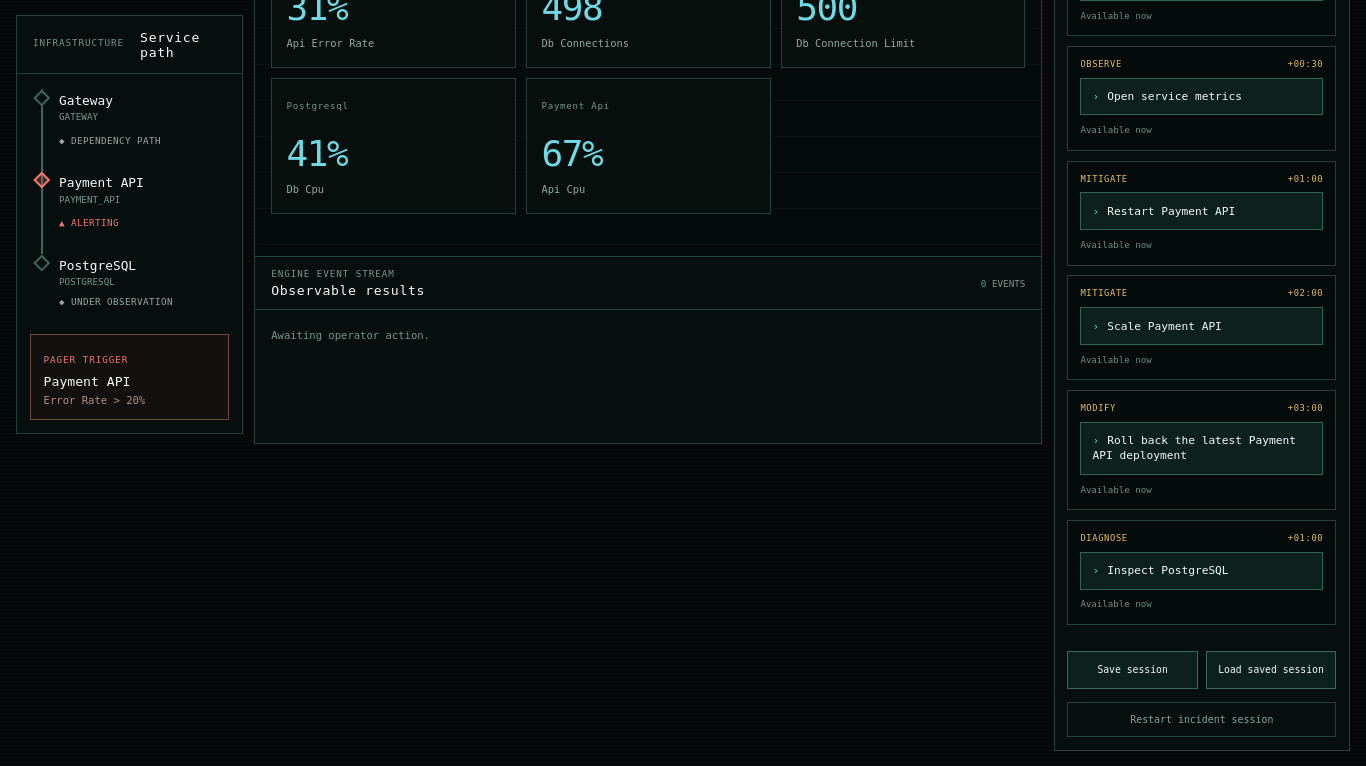
Scenario: INC-001 operations desktop › reveals database findings and the requirement-gated root-cause action
The width and height of the screenshot is (1366, 766).
(page scrolled)
Click the button "Inspect PostgreSQL". click: (1202, 571)
box: [1080, 552, 1323, 590]
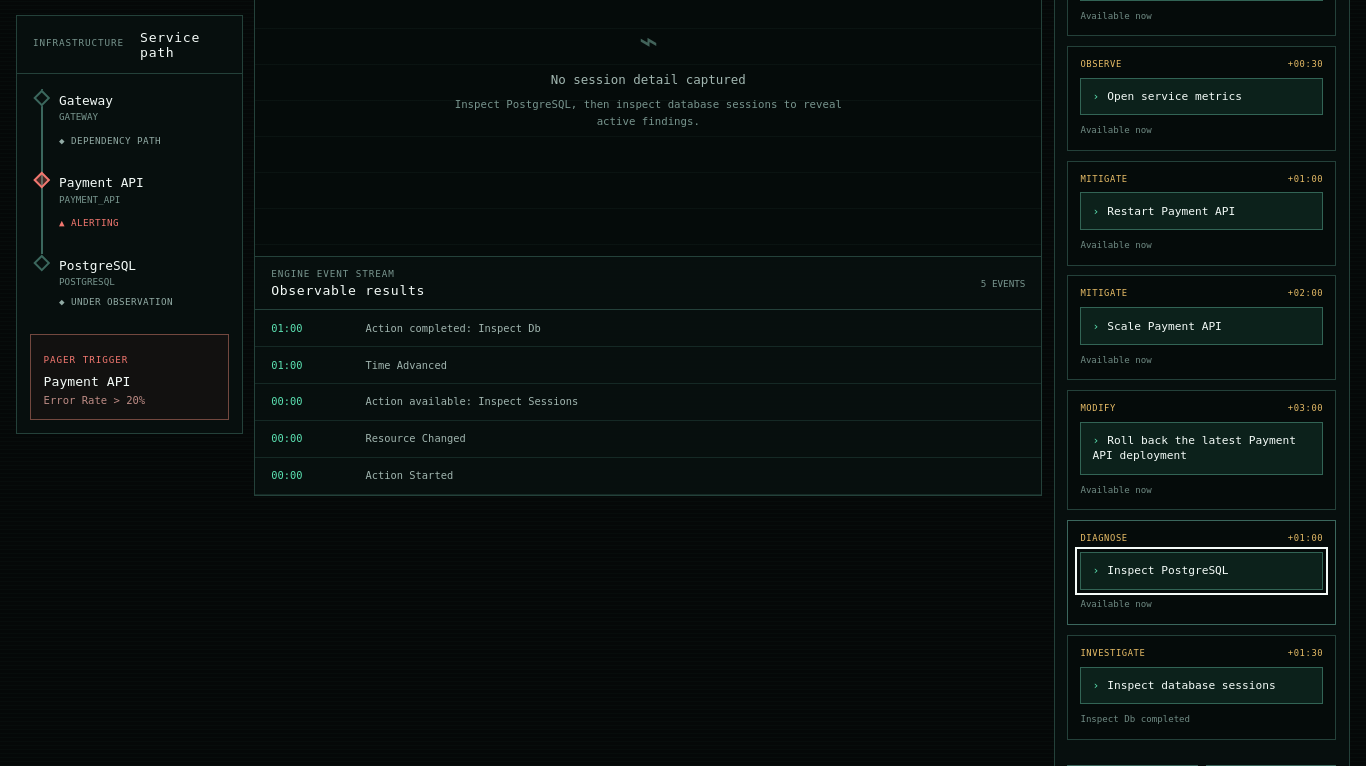
Check: the text "No session detail captured" is shown, box [551, 72, 746, 87]
Check: the button "Inspect database sessions" is enabled
Click the button "Inspect database sessions". click: (1202, 685)
box: [1080, 666, 1323, 704]
(page scrolled)
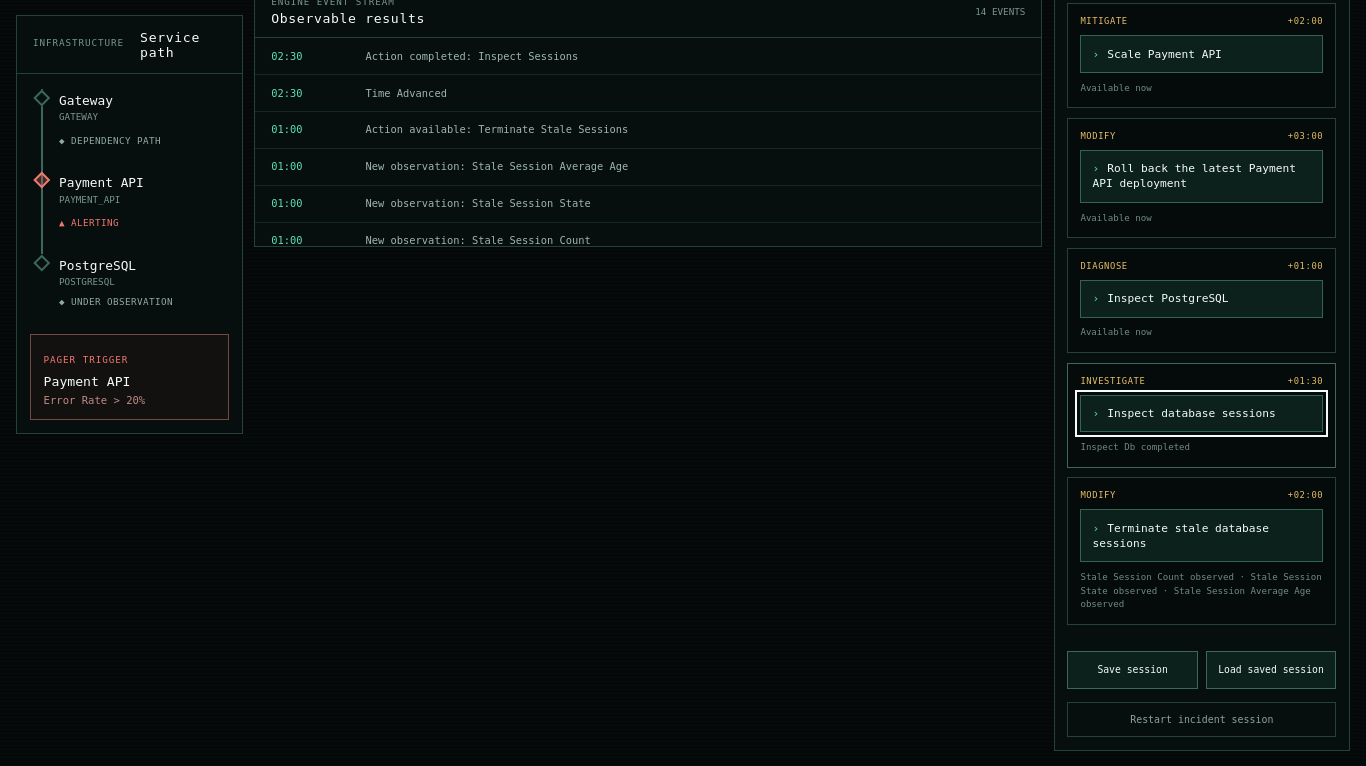
Check: the button "Terminate stale database sessions" is enabled, box [1080, 509, 1323, 562]
Check: the text "Stale Session Count observed" is shown, box [1080, 572, 1322, 610]
